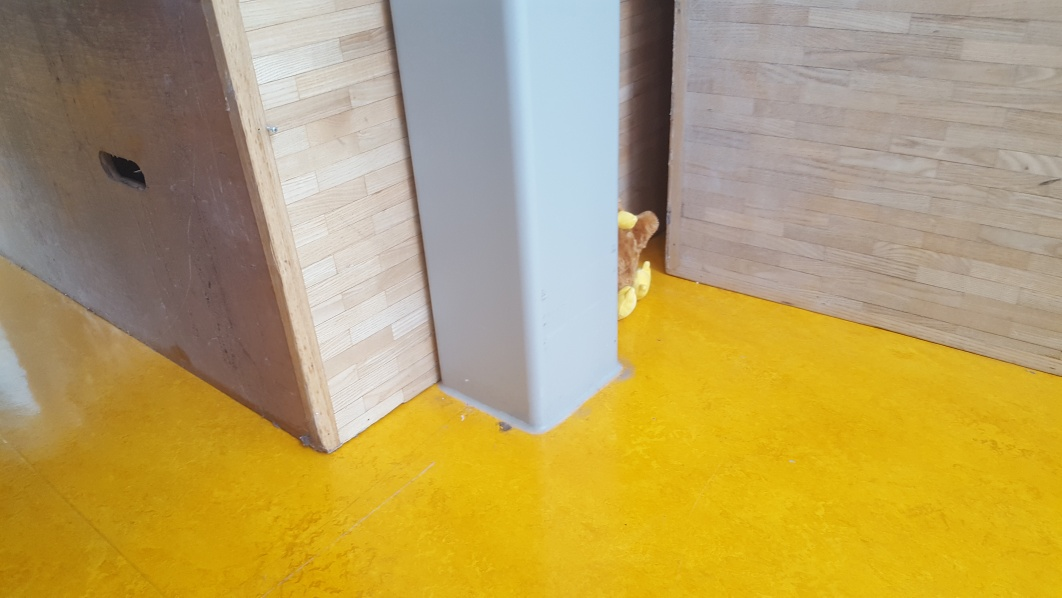chicken: (613, 209, 661, 326)
